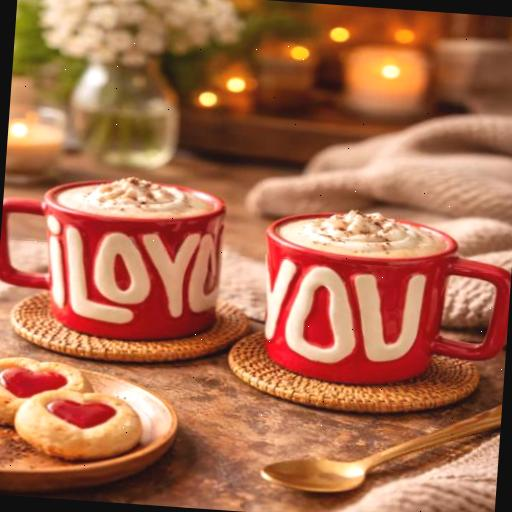cup: (255, 206, 512, 393), (0, 170, 227, 346)
